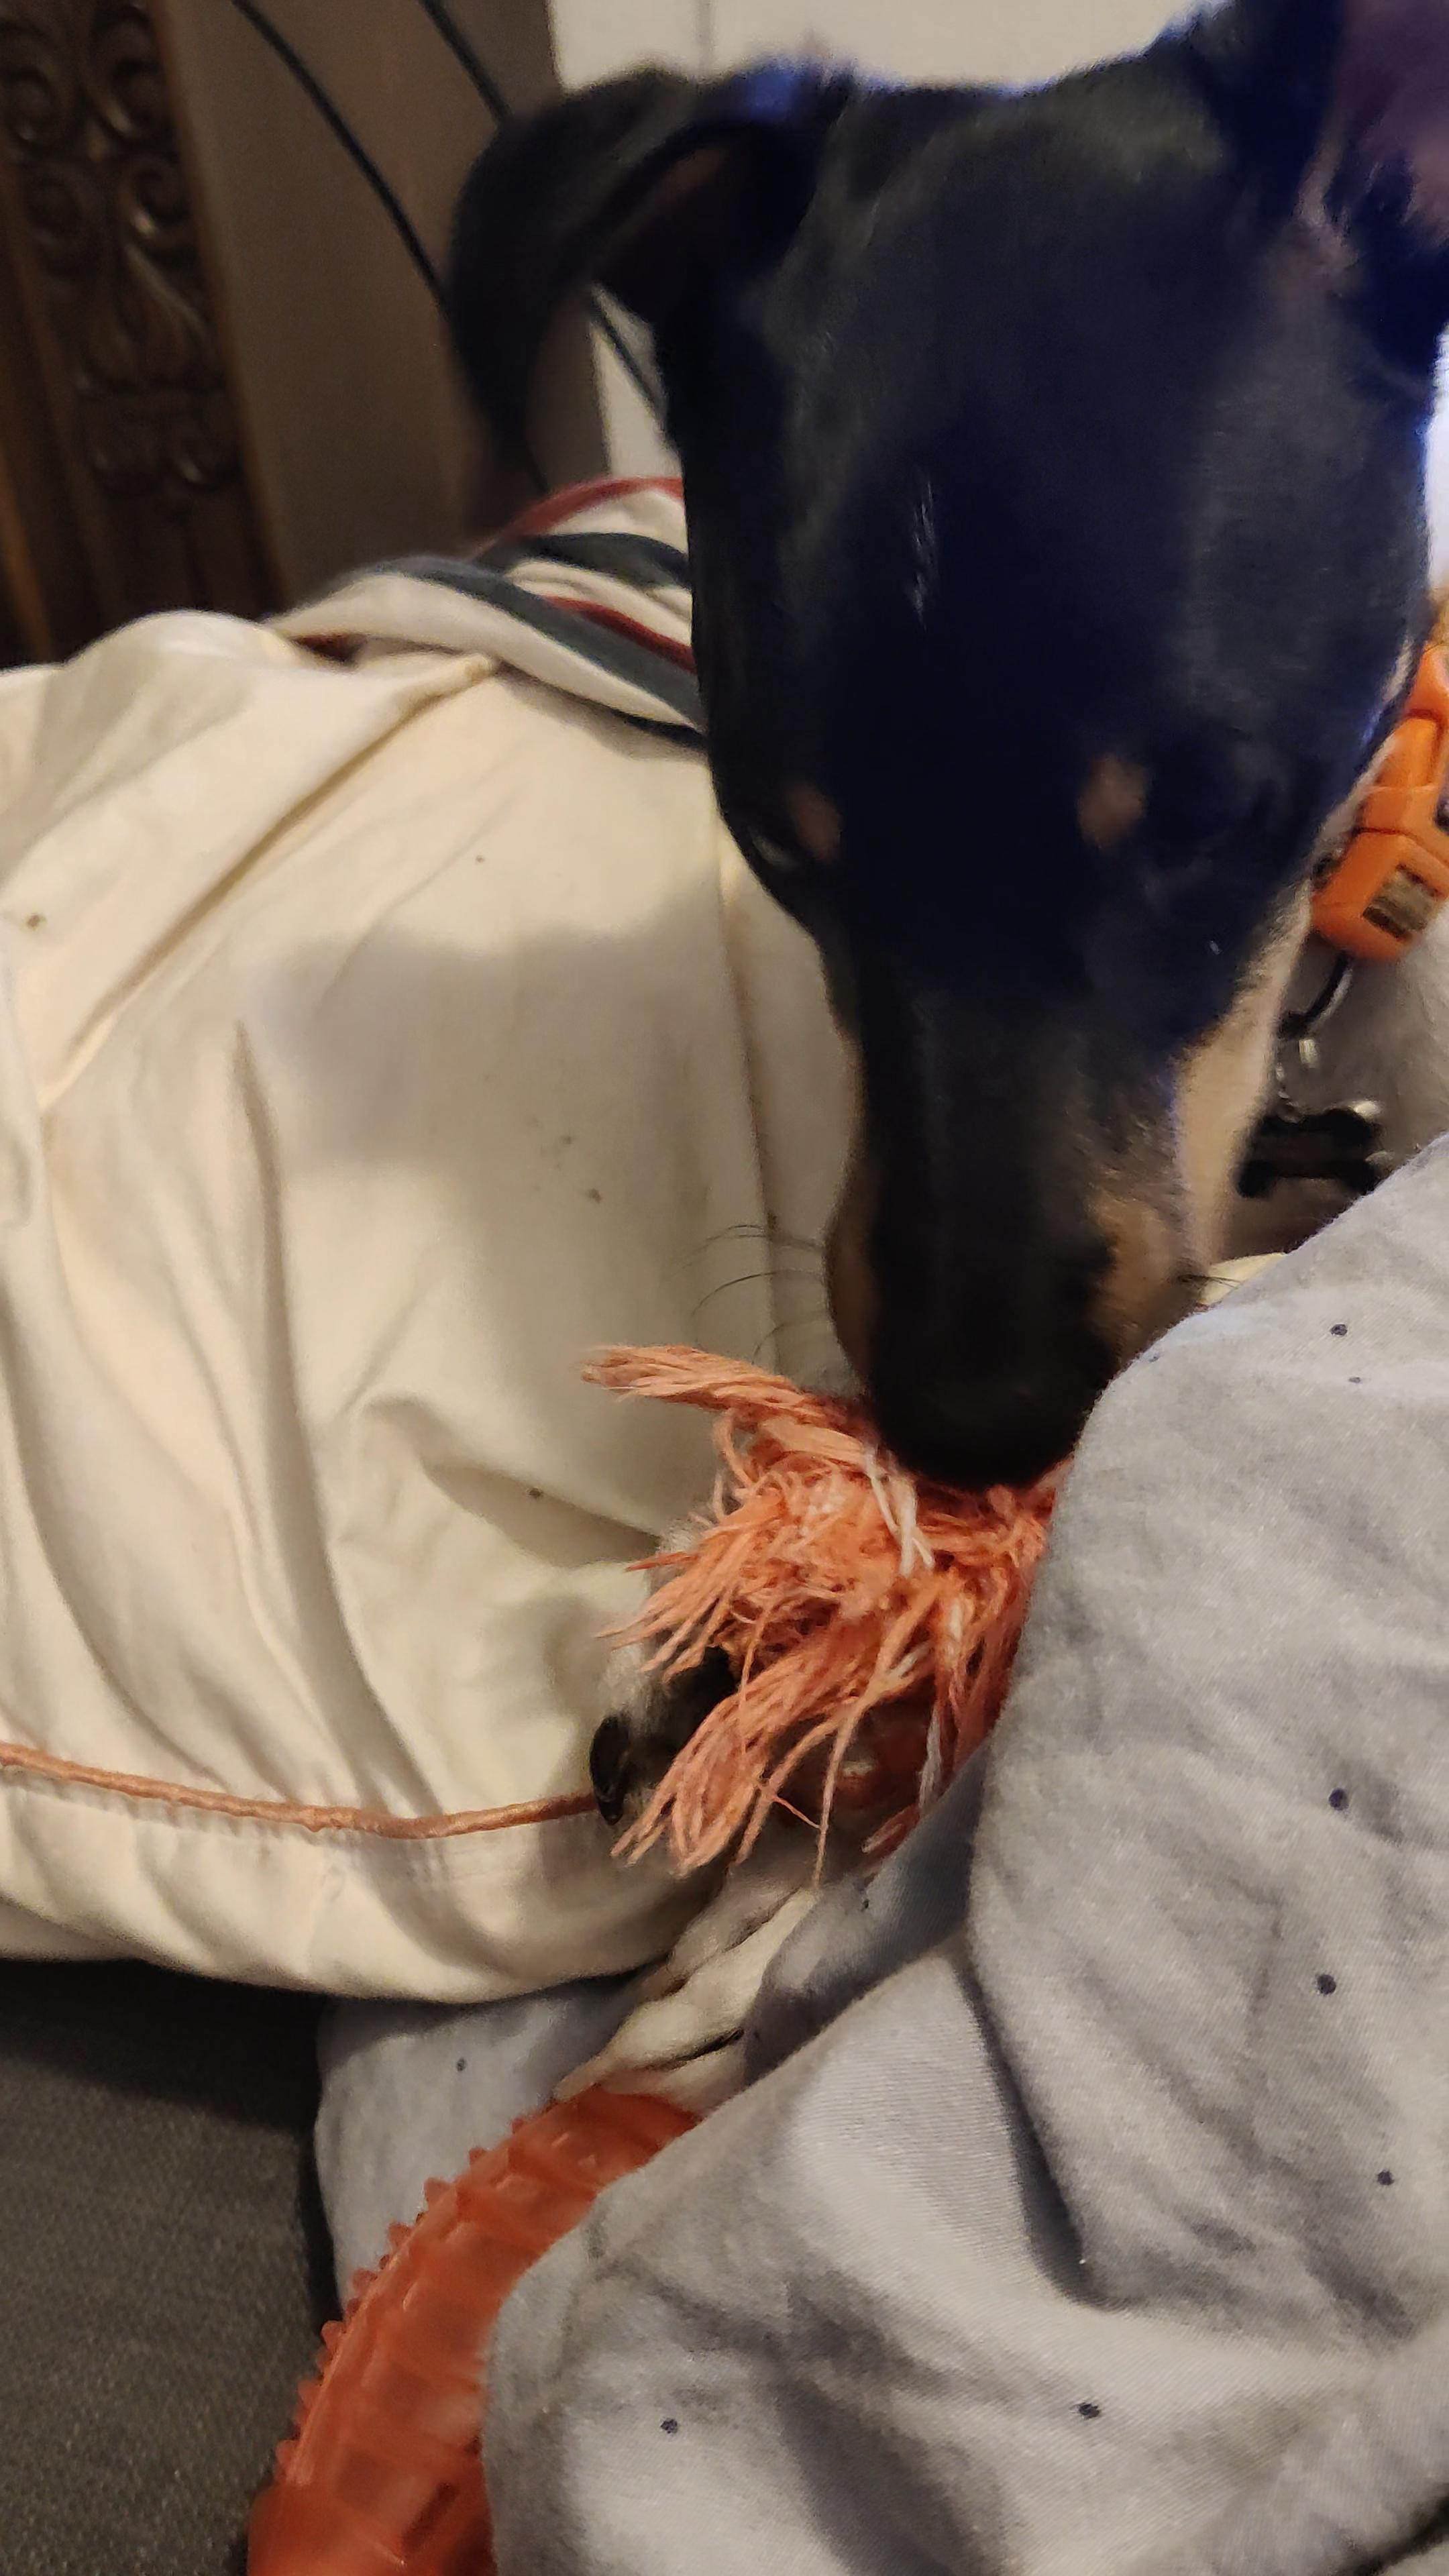Dog: (425, 0, 1449, 2139)
